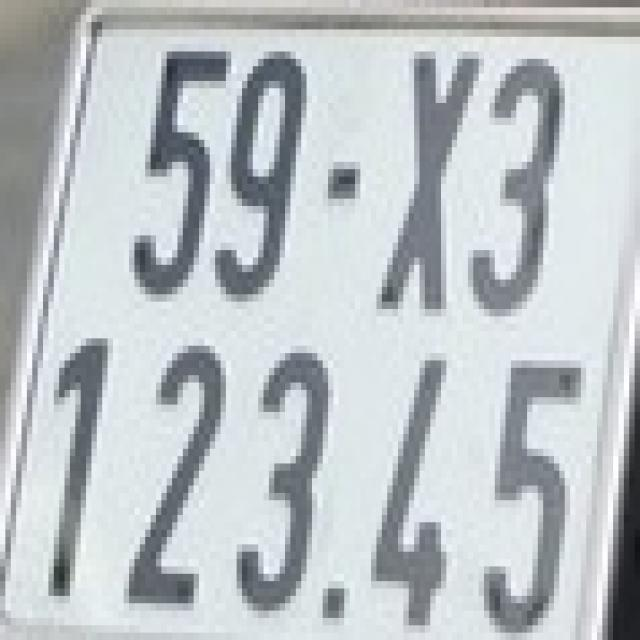1: (43, 331, 113, 603)
2: (124, 338, 226, 610)
3: (473, 51, 565, 316), (237, 346, 328, 610)
4: (371, 353, 452, 625)
5: (484, 353, 581, 633), (129, 44, 226, 302)
9: (220, 44, 306, 294)
X: (376, 51, 474, 316)
